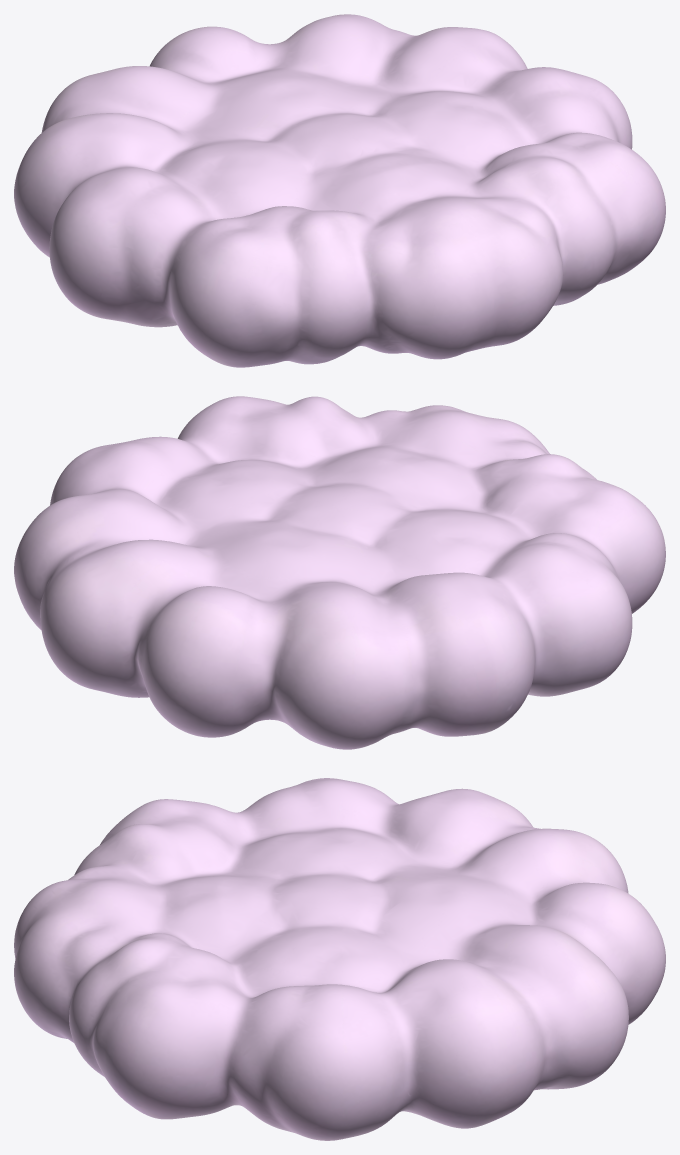
The model's file is claud_final.glb.
3 views of the same model, one above another, from view 1: azimuth 30°, elevation 25°; view 2: azimuth 150°, elevation 25°; view 3: azimuth 270°, elevation 25° (orthographic).
Size of the model in its own units: 1.9 by 0.4701 by 1.87.
Materials: 1 (1 with a texture image).
